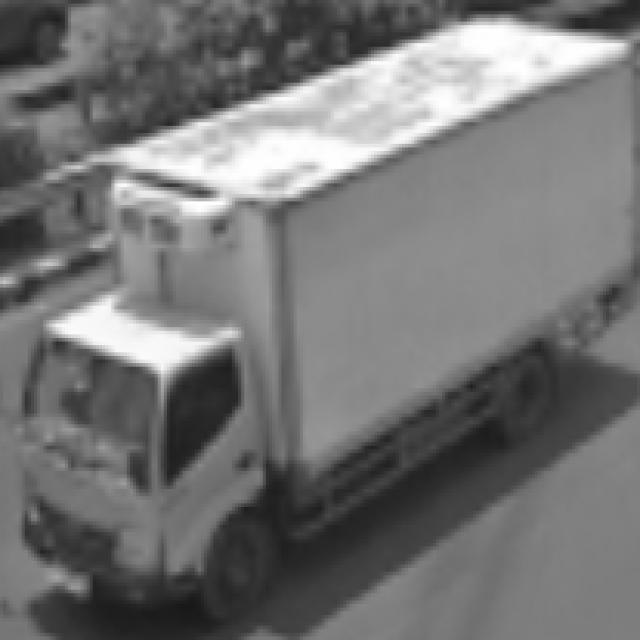truck: (11, 273, 290, 636)
